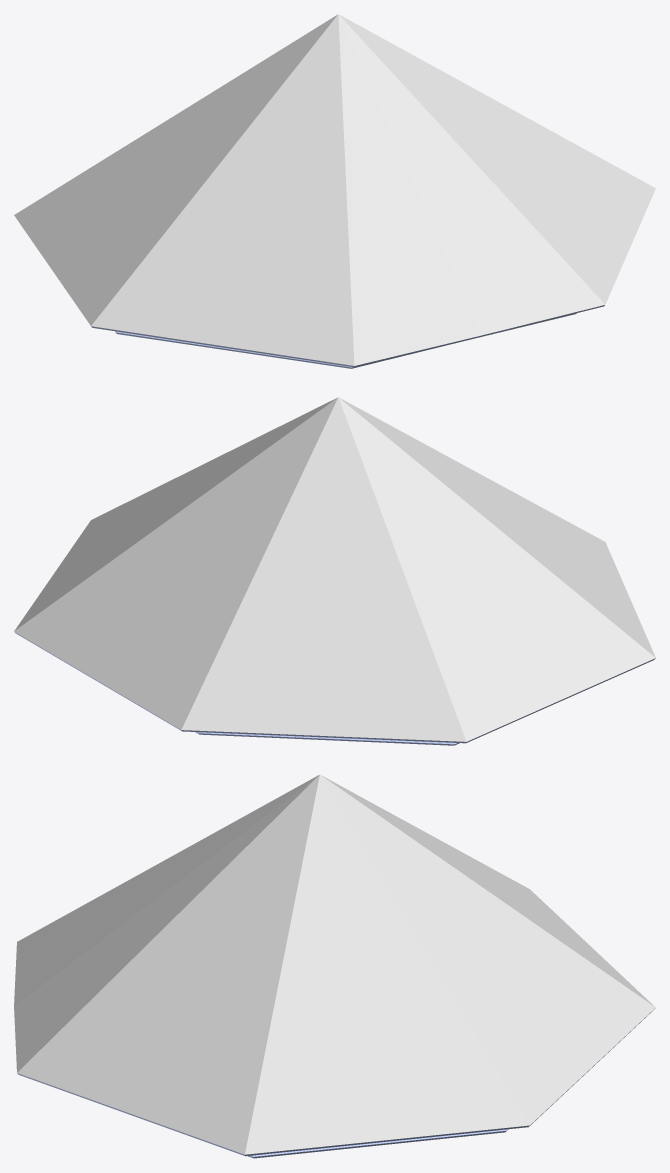
Rendered from toit.fbx.
3 views of the same model, one above another, from view 1: azimuth 30°, elevation 25°; view 2: azimuth 150°, elevation 25°; view 3: azimuth 270°, elevation 25° (orthographic). The views are drawn at different scales.
Parts seen in each view (by area): view 1: Toit; view 2: Toit; view 3: Toit.
Boxes of the visible parts, <box> form: Toit: <box>14,14,655,368</box>; Toit: <box>14,397,655,745</box>; Toit: <box>14,774,655,1158</box>.
Bounding box in the file's own units: 6835 × 2725 × 6286.
